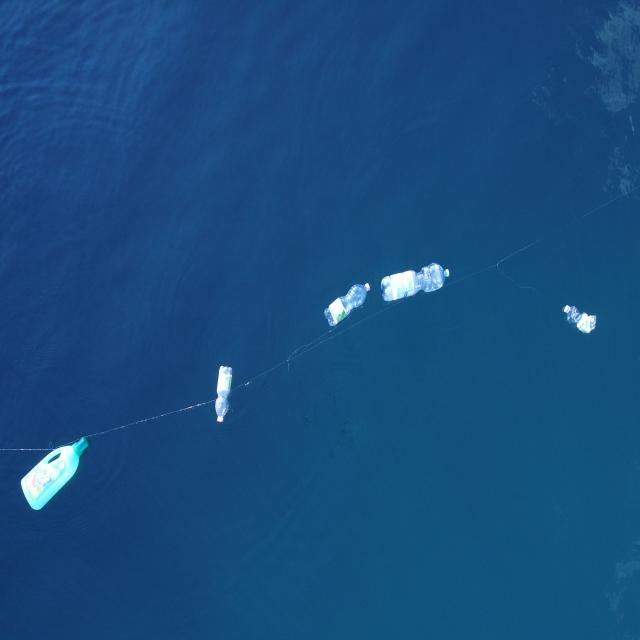bottles: (17, 428, 95, 514), (376, 256, 458, 310), (319, 274, 376, 332), (212, 355, 240, 432), (557, 297, 603, 339)
